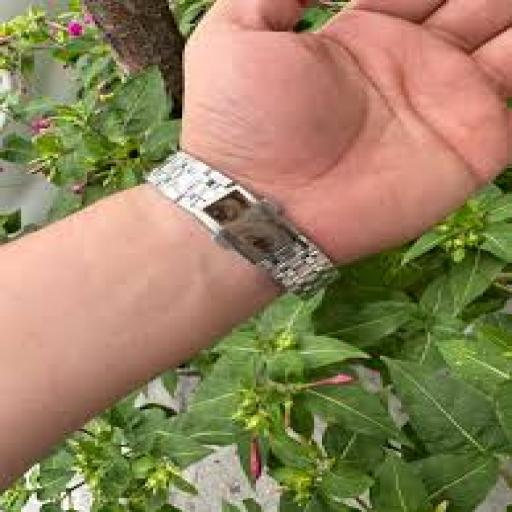KolSaati: (102, 132, 389, 328)
